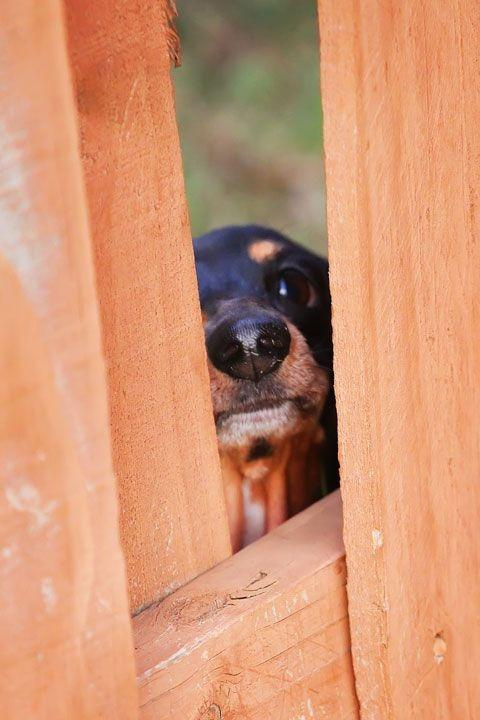adult_dog: (191, 222, 341, 553)
